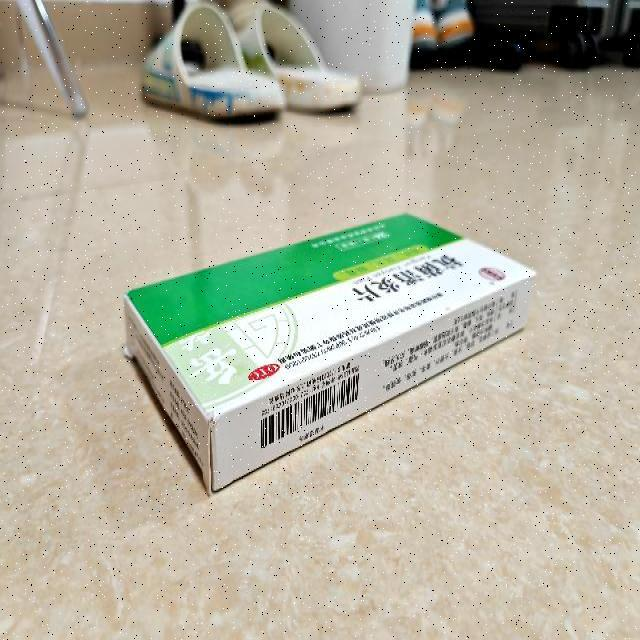box: (124, 213, 536, 496)
